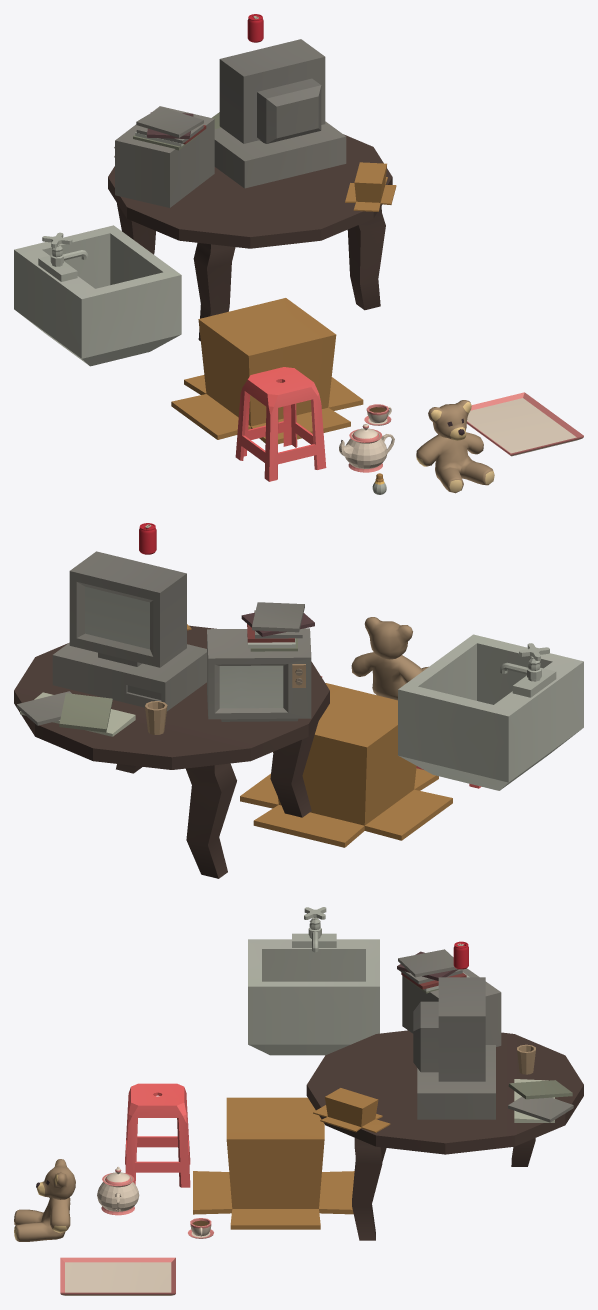
The model's file is junkyard.fbx.
3 renders of one model, top to bottom at view 1: azimuth 30°, elevation 25°; view 2: azimuth 150°, elevation 25°; view 3: azimuth 270°, elevation 25°, orthographic. The views are drawn at different scales.
Parts seen in each view (by area): view 1: polySurface338, polySurface254, polySurface330, polySurface299, polySurface320, polySurface335, tray, pCube1, polySurface324, pot, polySurface342; view 2: polySurface254, polySurface338, polySurface330, polySurface299, polySurface335, pCube1, polySurface347, polySurface342, polySurface348, polySurface331, polySurface359, polySurface357; view 3: polySurface338, polySurface254, polySurface299, polySurface330, polySurface320, tray, pCube1, polySurface324, polySurface335, pot, polySurface342, polySurface348 (+1 smaller).
Boxes of the visible parts, left/top/right/bottom form: polySurface338: left=108, top=134, right=392, bottom=340; polySurface254: left=14, top=225, right=181, bottom=366; polySurface330: left=214, top=39, right=346, bottom=188; polySurface299: left=171, top=298, right=363, bottom=444; polySurface320: left=235, top=367, right=326, bottom=481; polySurface335: left=114, top=106, right=214, bottom=207; tray: left=466, top=392, right=583, bottom=456; pCube1: left=416, top=400, right=494, bottom=493; polySurface324: left=345, top=162, right=396, bottom=211; pot: left=339, top=429, right=394, bottom=472; polySurface342: left=136, top=107, right=203, bottom=137; polySurface254: left=398, top=634, right=583, bottom=790; polySurface338: left=14, top=625, right=329, bottom=878; polySurface330: left=52, top=551, right=206, bottom=711; polySurface299: left=240, top=683, right=452, bottom=847; polySurface335: left=207, top=628, right=311, bottom=721; pCube1: left=351, top=617, right=428, bottom=700; polySurface347: left=59, top=693, right=112, bottom=732; polySurface342: left=252, top=602, right=304, bottom=632; polySurface348: left=17, top=691, right=72, bottom=725; polySurface331: left=20, top=692, right=135, bottom=736; polySurface359: left=145, top=701, right=167, bottom=734; polySurface357: left=139, top=523, right=156, bottom=554; polySurface338: left=306, top=1030, right=583, bottom=1240; polySurface254: left=248, top=907, right=379, bottom=1055; polySurface299: left=193, top=1097, right=354, bottom=1229; polySurface330: left=413, top=977, right=495, bottom=1119; polySurface320: left=125, top=1083, right=190, bottom=1187; tray: left=60, top=1257, right=175, bottom=1295; pCube1: left=14, top=1159, right=75, bottom=1241; polySurface324: left=313, top=1088, right=390, bottom=1132; polySurface335: left=402, top=968, right=501, bottom=1046; pot: left=97, top=1166, right=139, bottom=1215; polySurface342: left=398, top=949, right=457, bottom=977; polySurface348: left=508, top=1097, right=573, bottom=1122.
Bounding box in the file's own units: 52.08 × 37.22 × 65.07.
Materials: 1 (1 with a texture image).
